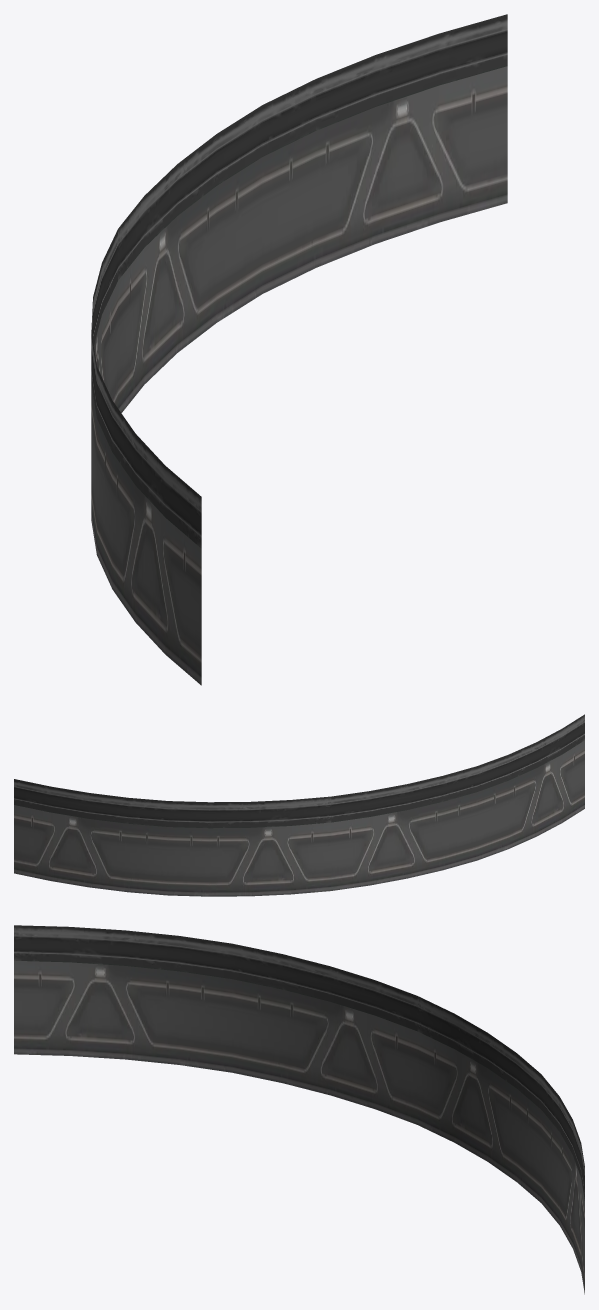
Rendered from ShortWall_Triangles_Corner_Inner.glb.
3 renders of one model, top to bottom at view 1: azimuth 30°, elevation 25°; view 2: azimuth 150°, elevation 25°; view 3: azimuth 270°, elevation 25°, orthographic. The views are drawn at different scales.
Visible parts, largest first — view 1: ShortWall_Triangles_Corner_Inner; view 2: ShortWall_Triangles_Corner_Inner; view 3: ShortWall_Triangles_Corner_Inner.
Part boxes in pixels (x1=…): ShortWall_Triangles_Corner_Inner: x1=91, y1=14, x2=507, y2=685; ShortWall_Triangles_Corner_Inner: x1=14, y1=714, x2=584, y2=896; ShortWall_Triangles_Corner_Inner: x1=14, y1=925, x2=584, y2=1294.
Bounding box in the file's own units: 4 × 0.9981 × 4.
1 material, 1 textured.
